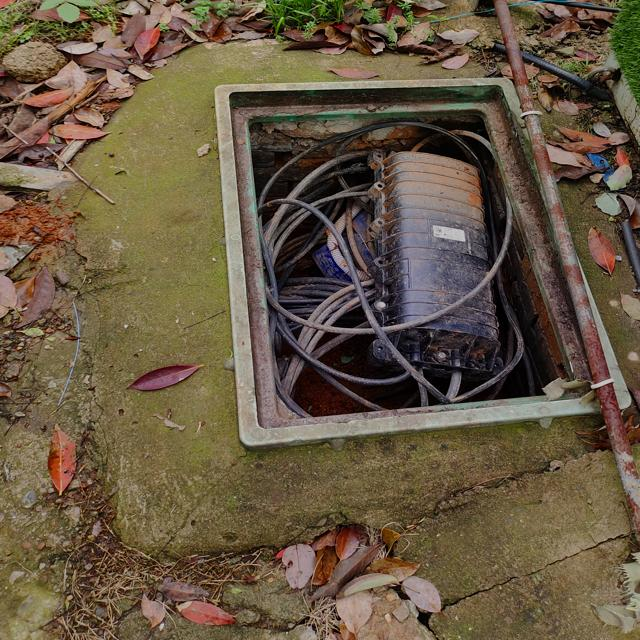lose: (216, 75, 632, 452)
